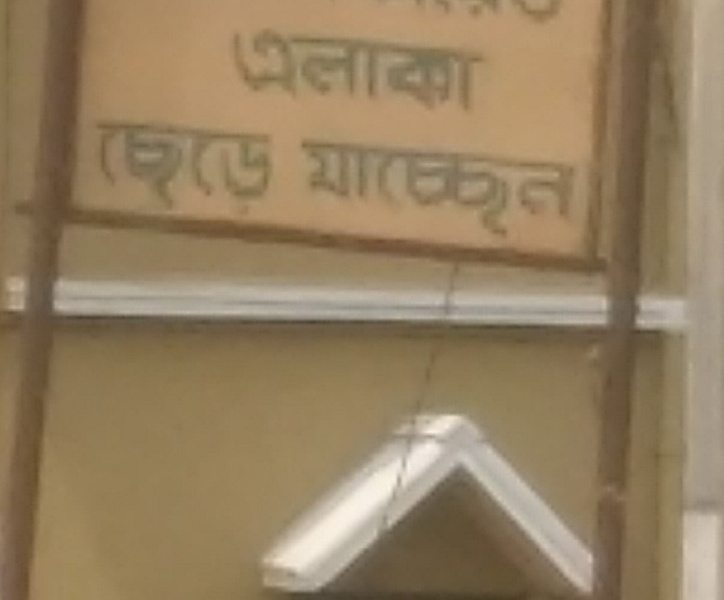text: (305, 132, 320, 250), (321, 132, 336, 250), (337, 132, 352, 250), (353, 132, 368, 250), (369, 132, 384, 250), (385, 132, 400, 250), (401, 132, 416, 250), (417, 132, 432, 250), (433, 132, 448, 250), (449, 132, 464, 250), (465, 132, 480, 250), (481, 132, 496, 250), (497, 132, 512, 250), (513, 132, 528, 250), (529, 132, 544, 250), (545, 132, 560, 250), (561, 132, 576, 250), (97, 114, 112, 225), (113, 114, 128, 225), (129, 114, 144, 225), (145, 114, 160, 225), (161, 114, 176, 225), (177, 114, 192, 225), (193, 114, 208, 225), (209, 114, 224, 225), (225, 114, 240, 225), (241, 114, 256, 225), (257, 114, 272, 225), (241, 16, 256, 119), (257, 16, 272, 119), (273, 16, 288, 119), (289, 16, 304, 119), (305, 16, 320, 119), (321, 16, 336, 119), (337, 16, 352, 119), (353, 16, 368, 119), (369, 16, 384, 119), (385, 16, 400, 119), (401, 16, 416, 119), (417, 16, 432, 119), (433, 16, 448, 119), (449, 16, 464, 119), (465, 16, 480, 119), (481, 16, 494, 119), (273, 114, 283, 225), (233, 16, 240, 119), (90, 114, 96, 225), (577, 132, 582, 250), (300, 132, 304, 250), (417, 1, 432, 32), (433, 1, 448, 32), (449, 1, 464, 32), (465, 1, 480, 32), (481, 1, 496, 32), (497, 1, 512, 32), (513, 1, 528, 32), (529, 1, 544, 32), (545, 1, 560, 32), (561, 1, 568, 32), (410, 1, 416, 32)
